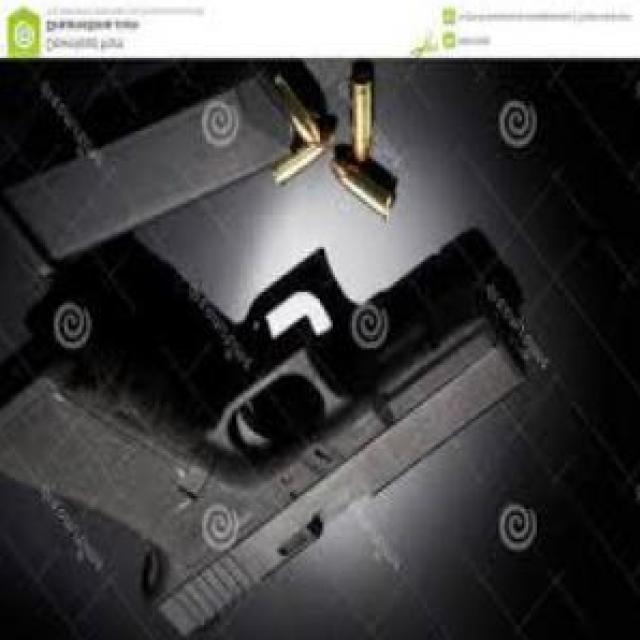pistol: (0, 210, 522, 638)
